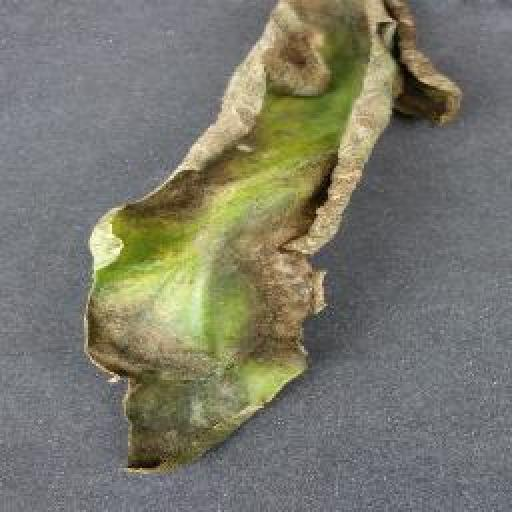Late Blight: (84, 0, 465, 483)
